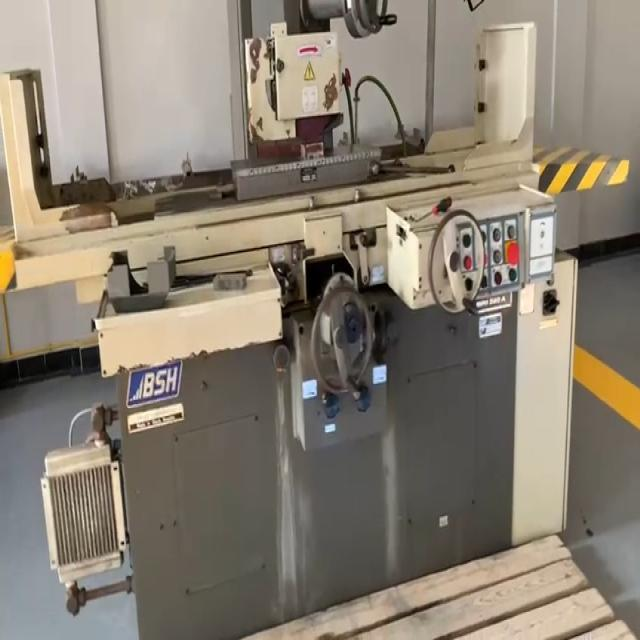fraiseuse: (0, 0, 631, 640)
